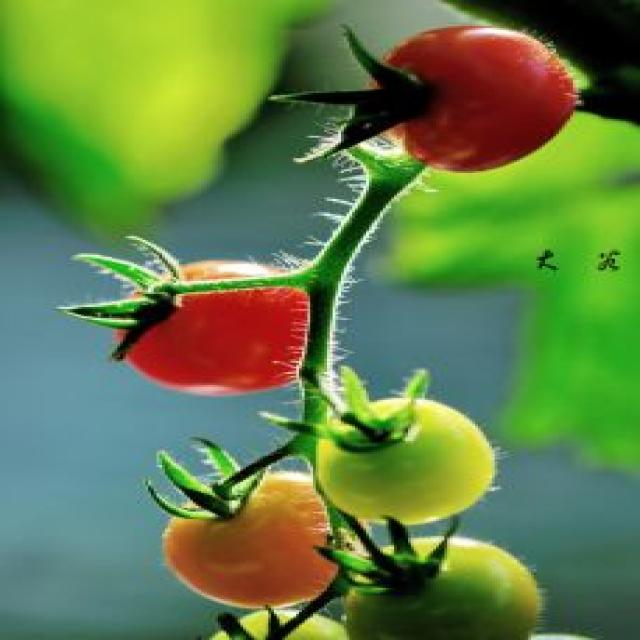level 2: (273, 373, 523, 537)
level 3: (302, 529, 569, 638)
level 4: (140, 427, 356, 616)
level 6: (70, 229, 343, 410), (330, 14, 581, 179)
